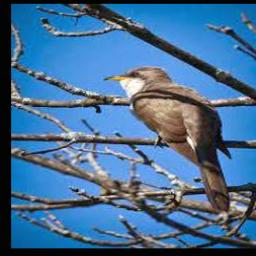Cuckoo: (106, 67, 234, 213)
